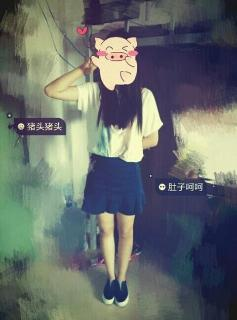short sleeve top: (76, 81, 163, 163)
skirt: (81, 152, 146, 216)
